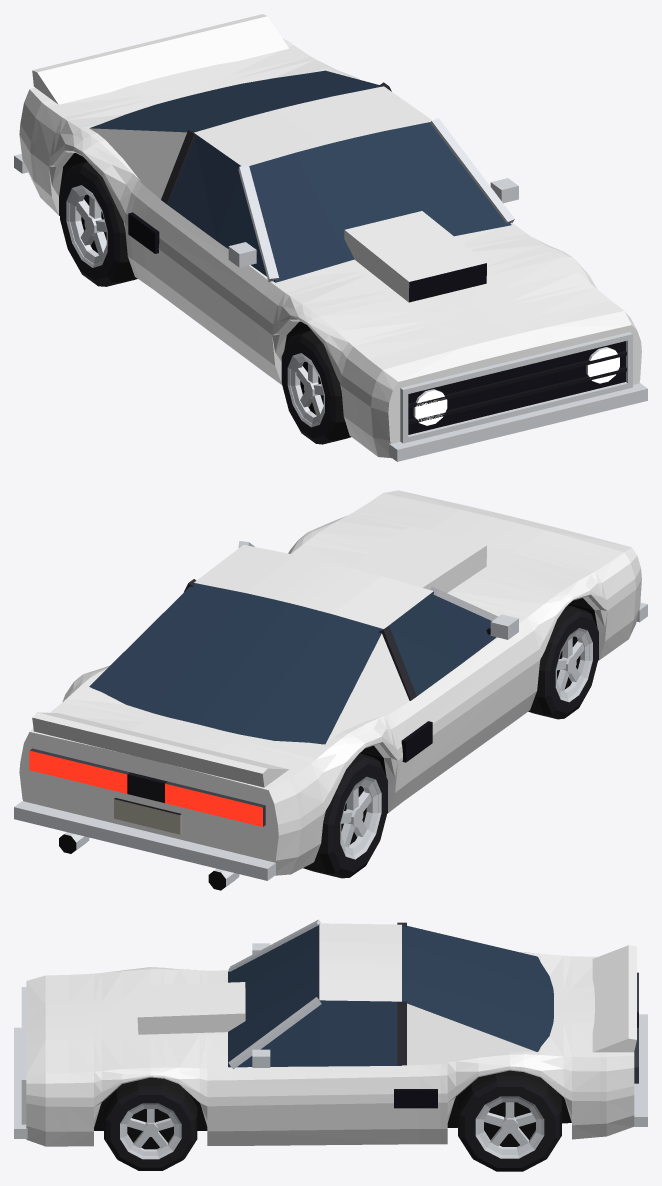
The model's file is muscle.glb.
3 renders of one model, top to bottom at view 1: azimuth 30°, elevation 25°; view 2: azimuth 150°, elevation 25°; view 3: azimuth 270°, elevation 25°, orthographic. The views are drawn at different scales.
Visible parts, largest first — view 1: paint, glass, chrome (×3), stripe_a, trim_grille, tire_side (×2), stripe_b, trim, tire (×2), headlight, trim_soft; view 2: paint, glass, chrome (×3), stripe_a, tire_side (×2), taillight, stripe_b, tire (×2), plate, trim, trim_under, trim_soft (+2 smaller); view 3: paint, glass, chrome (×3), tire_side (×2), stripe_a, stripe_b, tire (×2), trim_under (×3), trim_grille, trim_soft.
Part boxes in pixels (bbox=[...]): paint: bbox=[19, 14, 641, 458]; glass: bbox=[90, 70, 511, 282]; chrome (×3): bbox=[14, 118, 647, 461]; stripe_a: bbox=[130, 65, 557, 362]; trim_grille: bbox=[128, 212, 625, 434]; tire_side (×2): bbox=[60, 165, 335, 443]; stripe_b: bbox=[19, 124, 389, 412]; trim: bbox=[256, 255, 626, 424]; tire (×2): bbox=[69, 161, 350, 444]; headlight: bbox=[415, 348, 619, 425]; trim_soft: bbox=[161, 82, 391, 204]; paint: bbox=[19, 490, 641, 875]; glass: bbox=[89, 583, 496, 744]; chrome (×3): bbox=[14, 541, 647, 888]; stripe_a: bbox=[107, 507, 557, 769]; tire_side (×2): bbox=[328, 610, 598, 877]; taillight: bbox=[29, 750, 262, 826]; stripe_b: bbox=[278, 569, 641, 835]; tire (×2): bbox=[303, 605, 590, 878]; plate: bbox=[114, 799, 181, 834]; trim: bbox=[114, 628, 490, 814]; trim_under: bbox=[59, 598, 598, 890]; trim_soft: bbox=[184, 579, 416, 700]; paint: bbox=[26, 923, 636, 1146]; glass: bbox=[228, 924, 553, 1067]; chrome (×3): bbox=[14, 919, 647, 1159]; tire_side (×2): bbox=[106, 1081, 559, 1171]; stripe_a: bbox=[26, 942, 594, 1044]; stripe_b: bbox=[26, 1066, 634, 1106]; tire (×2): bbox=[104, 1070, 561, 1159]; trim_under (×3): bbox=[94, 1091, 571, 1149]; trim_grille: bbox=[394, 1089, 437, 1108]; trim_soft: bbox=[397, 922, 406, 1065].
Size of the model in its own units: 1.98 by 1.28 by 4.59.
